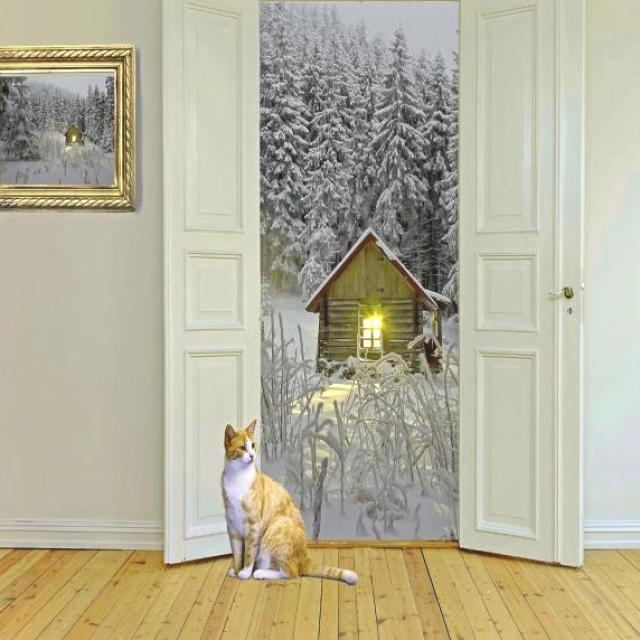door: (457, 0, 585, 567)
